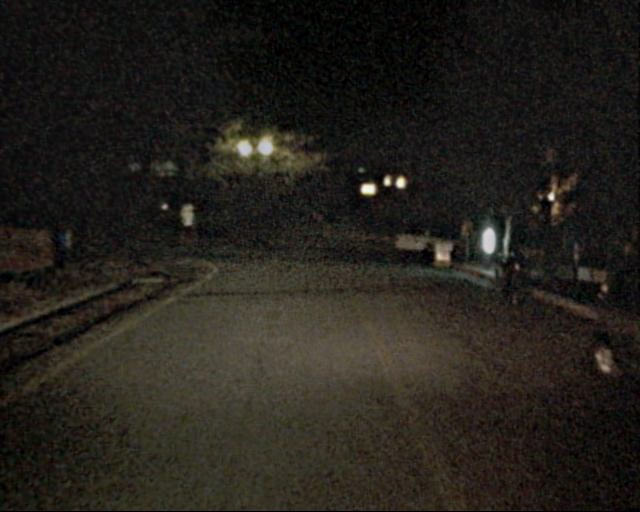person: (562, 221, 587, 282)
